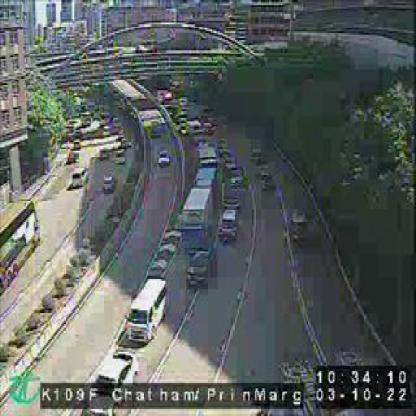Bus: (0, 199, 38, 288)
Car: (85, 350, 139, 411), (126, 276, 166, 340), (186, 249, 213, 282), (220, 208, 234, 243), (72, 164, 87, 186), (229, 168, 243, 184), (103, 175, 113, 194), (157, 149, 168, 165), (113, 151, 125, 163)
Truck: (182, 187, 212, 246), (197, 138, 214, 164), (193, 166, 214, 184)
